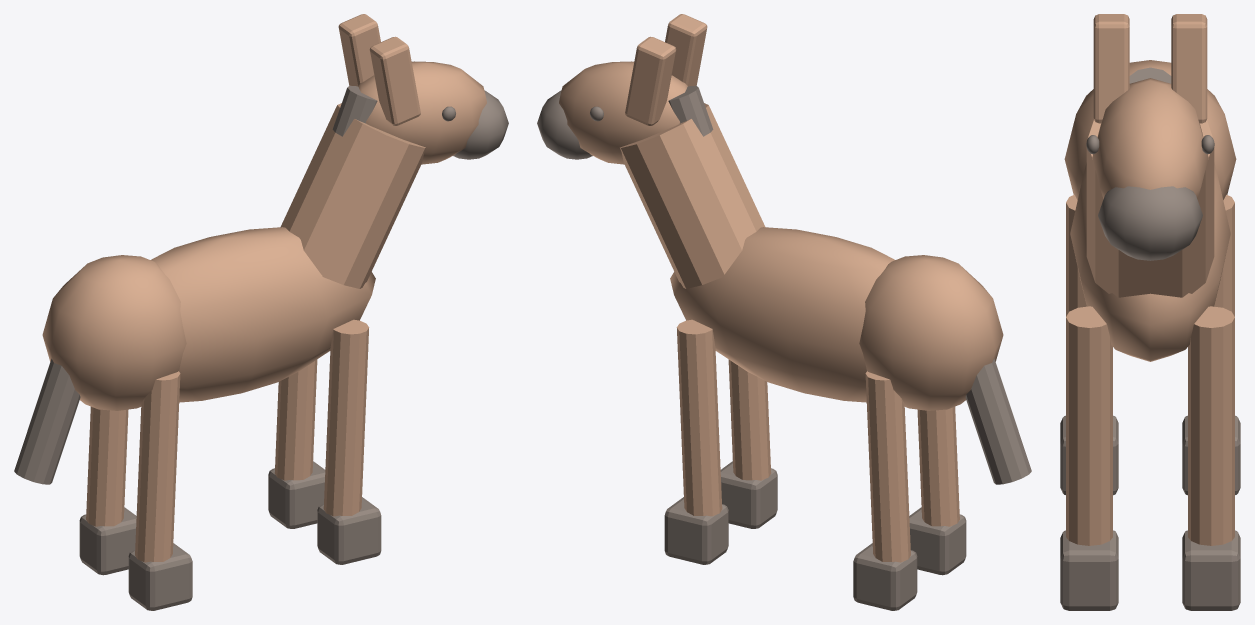
The model's file is horse-soft-toy.glb.
3 renders of one model, left to right at view 1: azimuth 30°, elevation 25°; view 2: azimuth 150°, elevation 25°; view 3: azimuth 270°, elevation 25°, orthographic. The views are drawn at different scales.
Parts seen in each view (by area): view 1: Body.001, Rump.001, Neck.001, Leg.006, Leg.004, Head.001, Tail.001, Leg.005, Leg.007, Hoof.004, Hoof.006, Ear.002 (+5 smaller); view 2: Body.001, Rump.001, Neck.001, Leg.007, Leg.005, Head.001, Tail.001, Leg.004, Leg.006, Hoof.005, Hoof.007, Ear.003 (+5 smaller); view 3: Leg.006, Leg.007, Head.001, Body.001, Neck.001, Muzzle.001, Hoof.006, Hoof.007, Rump.001, Ear.002, Ear.003, Leg.004 (+4 smaller).
Boxes of the visible parts, left/top/right/bottom form: Body.001: left=151, top=227, right=375, bottom=402; Rump.001: left=42, top=255, right=186, bottom=410; Neck.001: left=280, top=103, right=425, bottom=288; Leg.006: left=323, top=319, right=369, bottom=516; Leg.004: left=135, top=371, right=180, bottom=562; Head.001: left=358, top=61, right=486, bottom=164; Tail.001: left=14, top=358, right=80, bottom=484; Leg.005: left=86, top=406, right=128, bottom=526; Leg.007: left=274, top=359, right=317, bottom=480; Hoof.004: left=128, top=543, right=192, bottom=610; Hoof.006: left=317, top=497, right=381, bottom=564; Ear.002: left=369, top=36, right=420, bottom=125; Body.001: left=670, top=227, right=894, bottom=402; Rump.001: left=859, top=255, right=1003, bottom=410; Neck.001: left=620, top=103, right=765, bottom=288; Leg.007: left=676, top=319, right=722, bottom=516; Leg.005: left=865, top=371, right=910, bottom=562; Head.001: left=559, top=61, right=687, bottom=164; Tail.001: left=965, top=358, right=1031, bottom=484; Leg.004: left=917, top=406, right=959, bottom=526; Leg.006: left=728, top=359, right=771, bottom=480; Hoof.005: left=853, top=543, right=917, bottom=610; Hoof.007: left=664, top=497, right=728, bottom=564; Ear.003: left=625, top=36, right=676, bottom=125; Leg.006: left=1066, top=306, right=1112, bottom=545; Leg.007: left=1188, top=306, right=1234, bottom=545; Head.001: left=1092, top=78, right=1208, bottom=198; Body.001: left=1070, top=162, right=1230, bottom=361; Neck.001: left=1086, top=119, right=1214, bottom=297; Muzzle.001: left=1098, top=186, right=1202, bottom=260; Hoof.006: left=1060, top=530, right=1118, bottom=610; Hoof.007: left=1182, top=530, right=1240, bottom=610; Rump.001: left=1064, top=60, right=1236, bottom=199; Ear.002: left=1093, top=14, right=1129, bottom=123; Ear.003: left=1171, top=14, right=1207, bottom=123; Leg.004: left=1066, top=194, right=1086, bottom=316.
Size of the model in its own units: 2.52 by 2.45 by 0.65.
